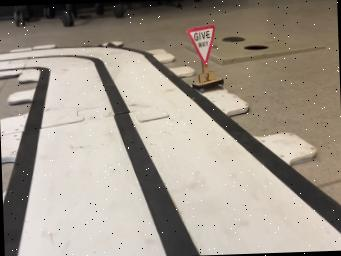give_way: (186, 24, 223, 92), (186, 24, 223, 92), (186, 24, 223, 92)
street: (0, 44, 341, 256), (0, 44, 341, 256), (0, 44, 341, 256)
